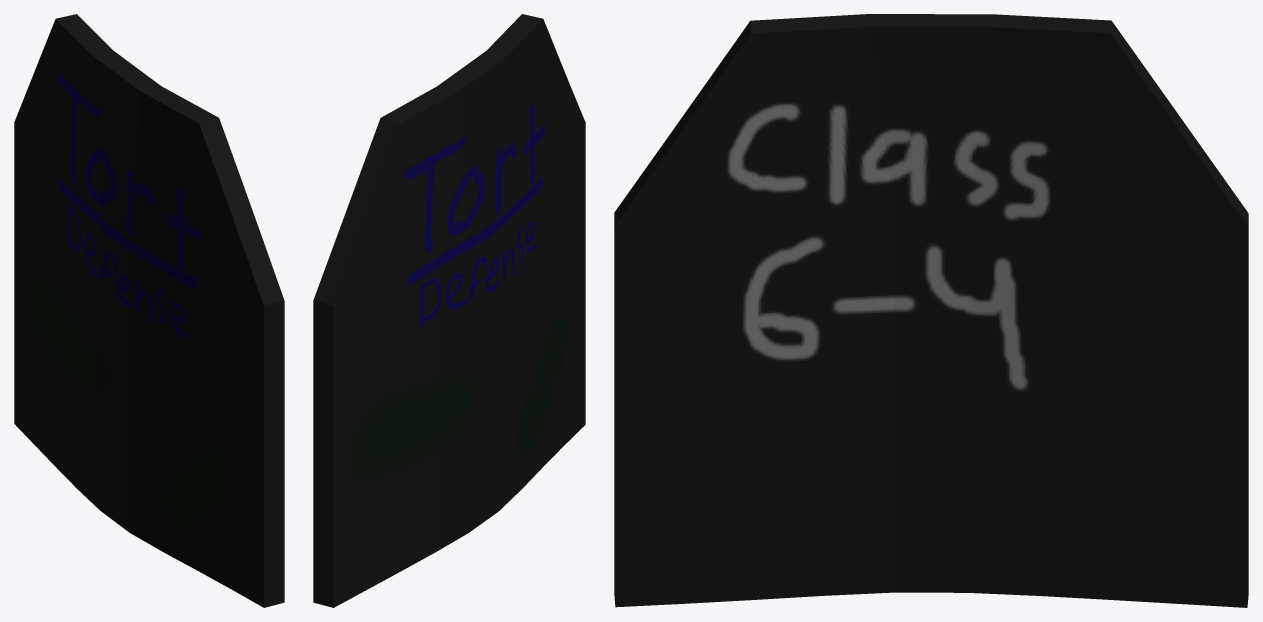
File: ArmorPlate.fbx
3 renders of one model, left to right at view 1: azimuth 30°, elevation 25°; view 2: azimuth 150°, elevation 25°; view 3: azimuth 270°, elevation 25°, orthographic. The views are drawn at different scales.
Parts seen in each view (by area): view 1: Cube; view 2: Cube; view 3: Cube.
Part boxes in pixels (<box>): Cube: <box>14,14,284,607</box>; Cube: <box>313,14,585,607</box>; Cube: <box>614,14,1248,607</box>.
Size of the model in its own units: 3.74 by 35 by 35.5.
